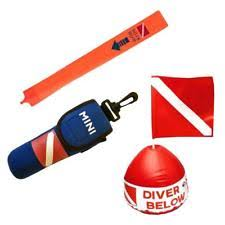buoy: (123, 143, 189, 214)
